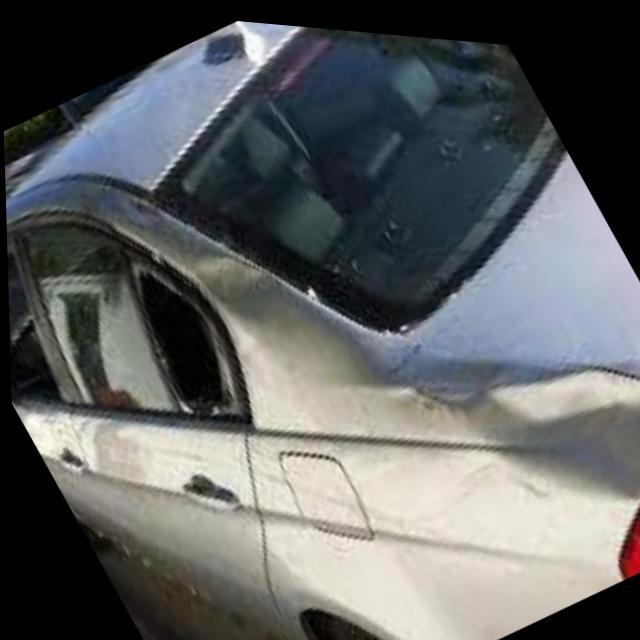dent: (375, 337, 640, 505), (179, 240, 278, 329)
glass shatter: (131, 260, 229, 421)
